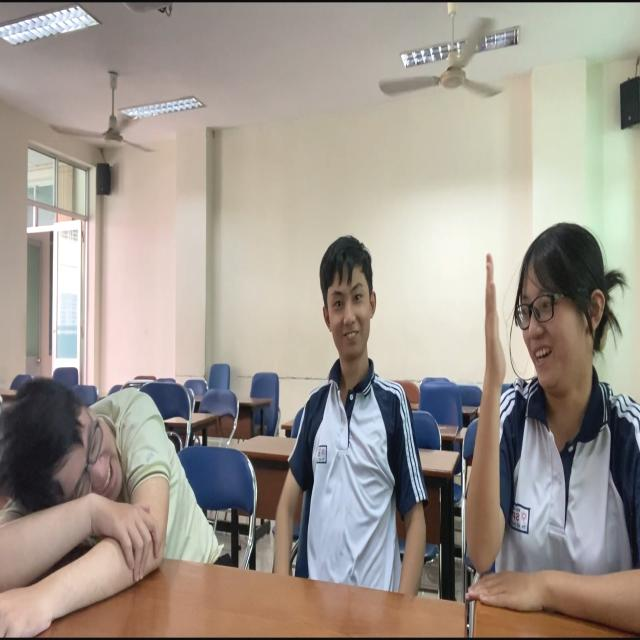raise_hand: (447, 225, 640, 629)
